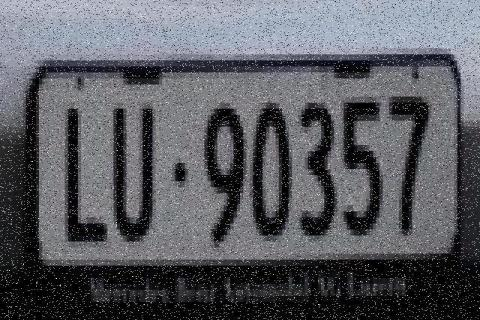LicensePlate: (25, 33, 469, 313)
